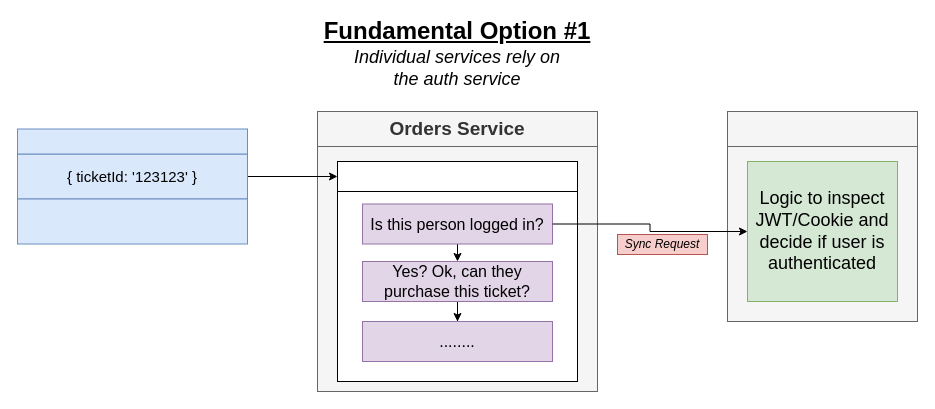
Some shapes in this 935 by 409 pixel diagram are drawn without their labels. Each missing label, with the centre of its shape:
Auth Service: (x=822, y=128)
JWT, Cookie, ETC: (x=132, y=221)
Request to Purchase Ticket: (x=132, y=141)
Ticket Purchase Logic: (x=457, y=176)
